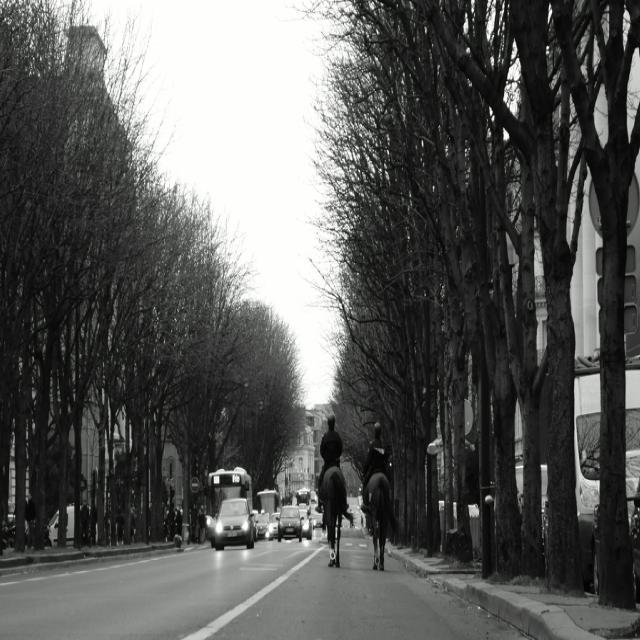car: (216, 490, 254, 543), (276, 502, 303, 540)
